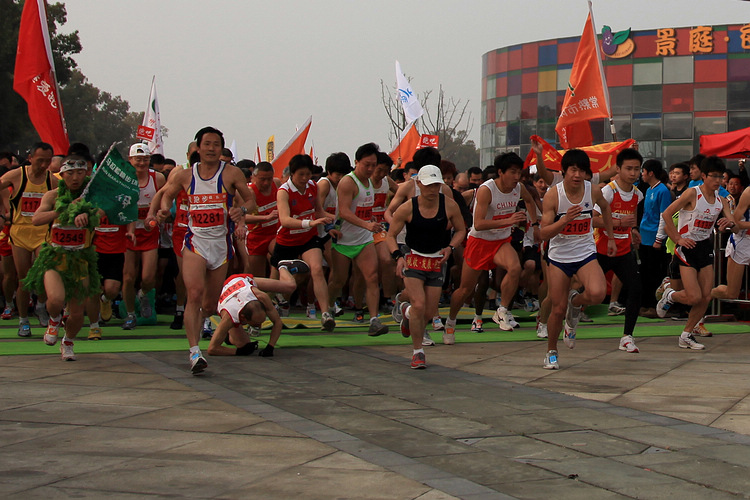10+: (11, 119, 749, 348)
down: (199, 249, 331, 354)
